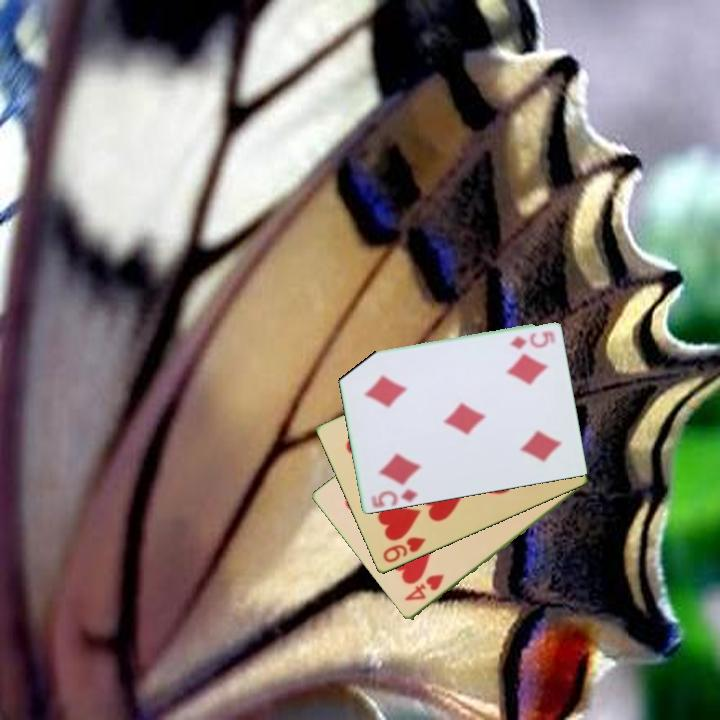4h: (401, 571, 447, 604)
5d: (367, 486, 421, 511), (506, 327, 556, 350)
9h: (379, 534, 428, 566)
